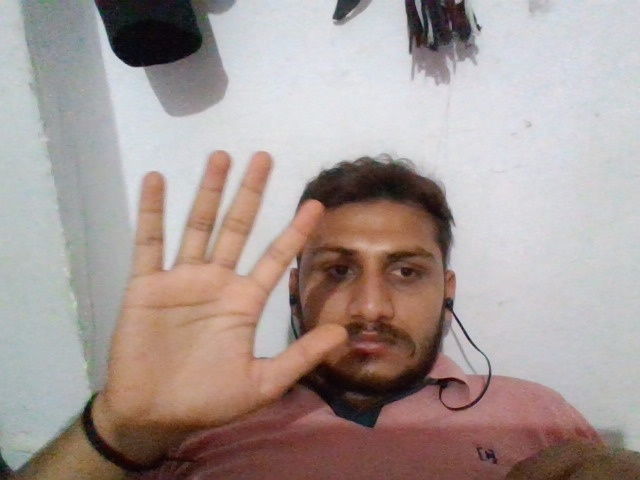Hello: (103, 138, 356, 427)
